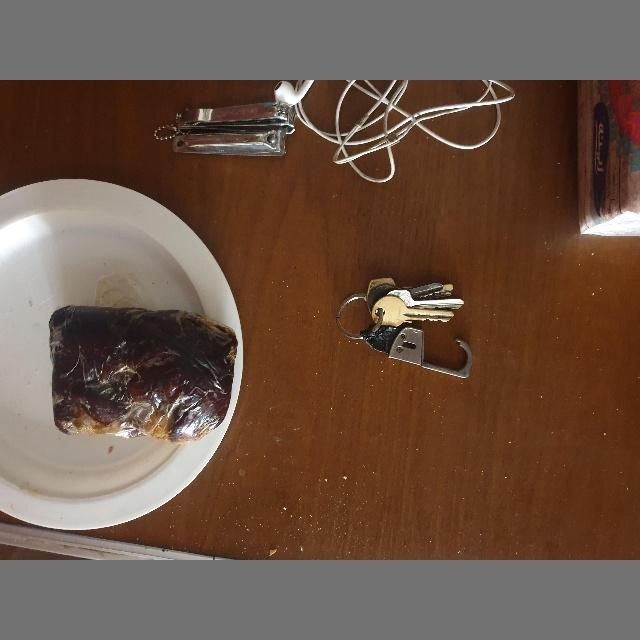Keys: (336, 277, 474, 379)
